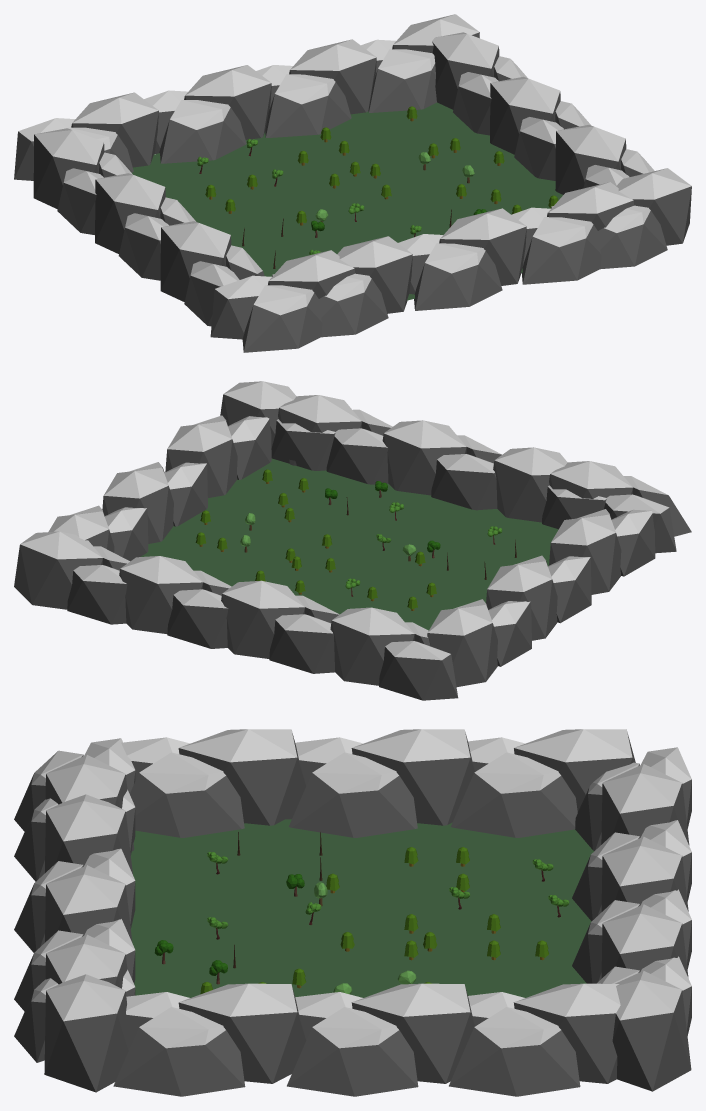
Rendered from ForestLevel.fbx.
3 renders of one model, top to bottom at view 1: azimuth 30°, elevation 25°; view 2: azimuth 150°, elevation 25°; view 3: azimuth 270°, elevation 25°, orthographic. The views are drawn at different scales.
Parts seen in each view (by area): view 1: Cylinder.001; view 2: Cylinder.001; view 3: Cylinder.001.
Part boxes in pixels (x1=…): Cylinder.001: x1=14, y1=14, x2=691, y2=352; Cylinder.001: x1=14, y1=381, x2=691, y2=700; Cylinder.001: x1=14, y1=729, x2=691, y2=1096.
Size of the model in its own units: 334 by 42.19 by 307.
